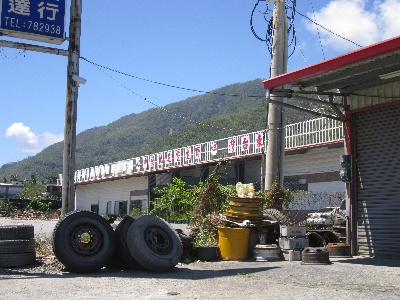box: (278, 224, 308, 239), (277, 237, 310, 250)
bucket: (216, 226, 252, 261)
tire: (51, 209, 117, 273), (125, 214, 186, 272), (1, 250, 36, 269), (1, 221, 35, 240), (1, 237, 37, 253)
